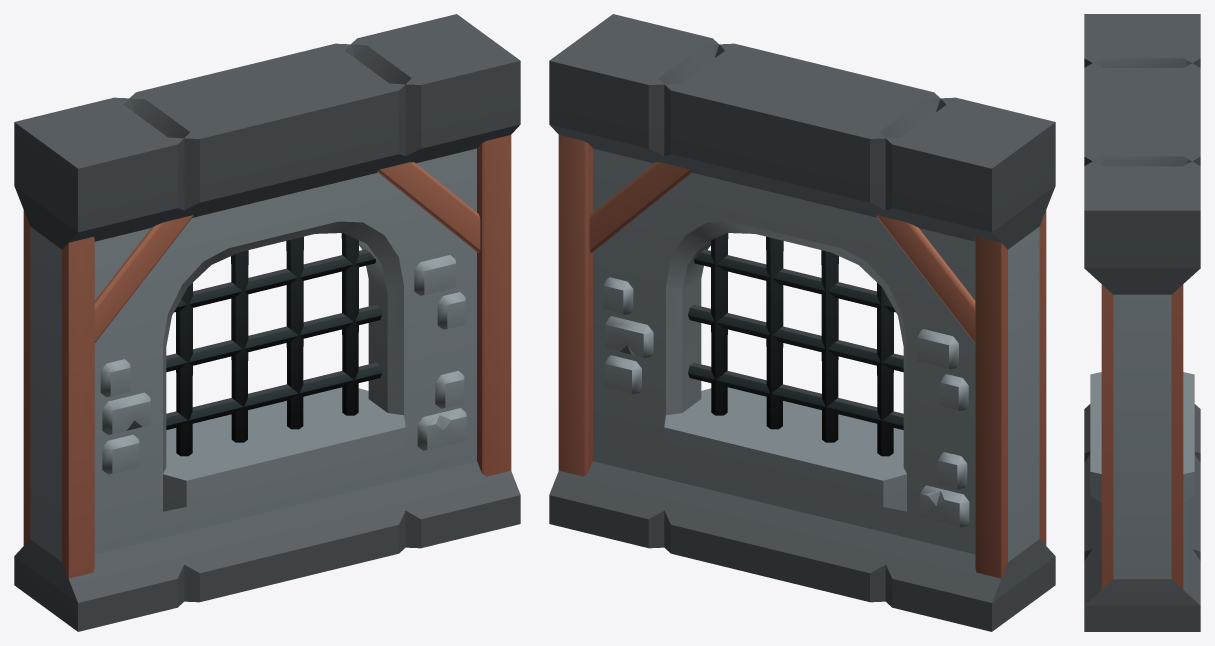
File: wall_archedwindow_gated_scaffold.gltf
3 renders of one model, left to right at view 1: azimuth 30°, elevation 25°; view 2: azimuth 150°, elevation 25°; view 3: azimuth 270°, elevation 25°, orthographic. The views are drawn at different scales.
Parts seen in each view (by area): view 1: wall_archedwindow_gated_scaffold; view 2: wall_archedwindow_gated_scaffold; view 3: wall_archedwindow_gated_scaffold.
Part boxes in pixels (x1,y1,x2,y2): wall_archedwindow_gated_scaffold: (14,14,520,631); wall_archedwindow_gated_scaffold: (549,14,1055,631); wall_archedwindow_gated_scaffold: (1084,14,1200,631).
Bounding box in the file's own units: 4 × 4 × 1.
1 material, 1 textured.
